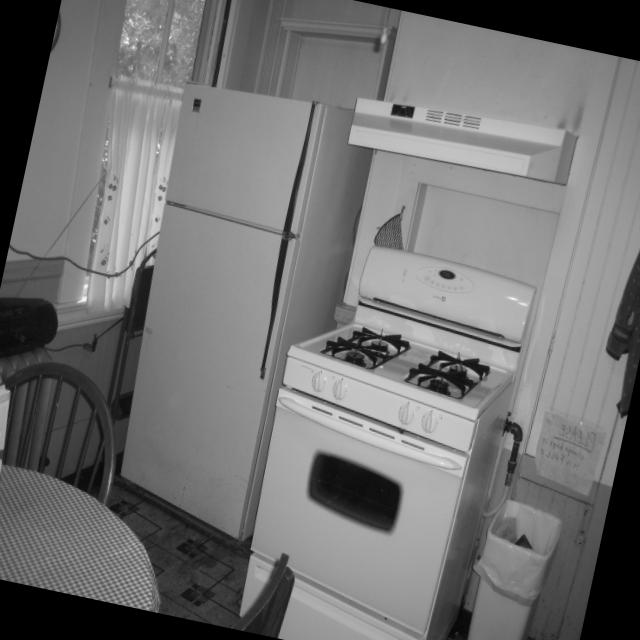oven cloth: (236, 245, 537, 640)
trash can: (466, 499, 561, 640)
